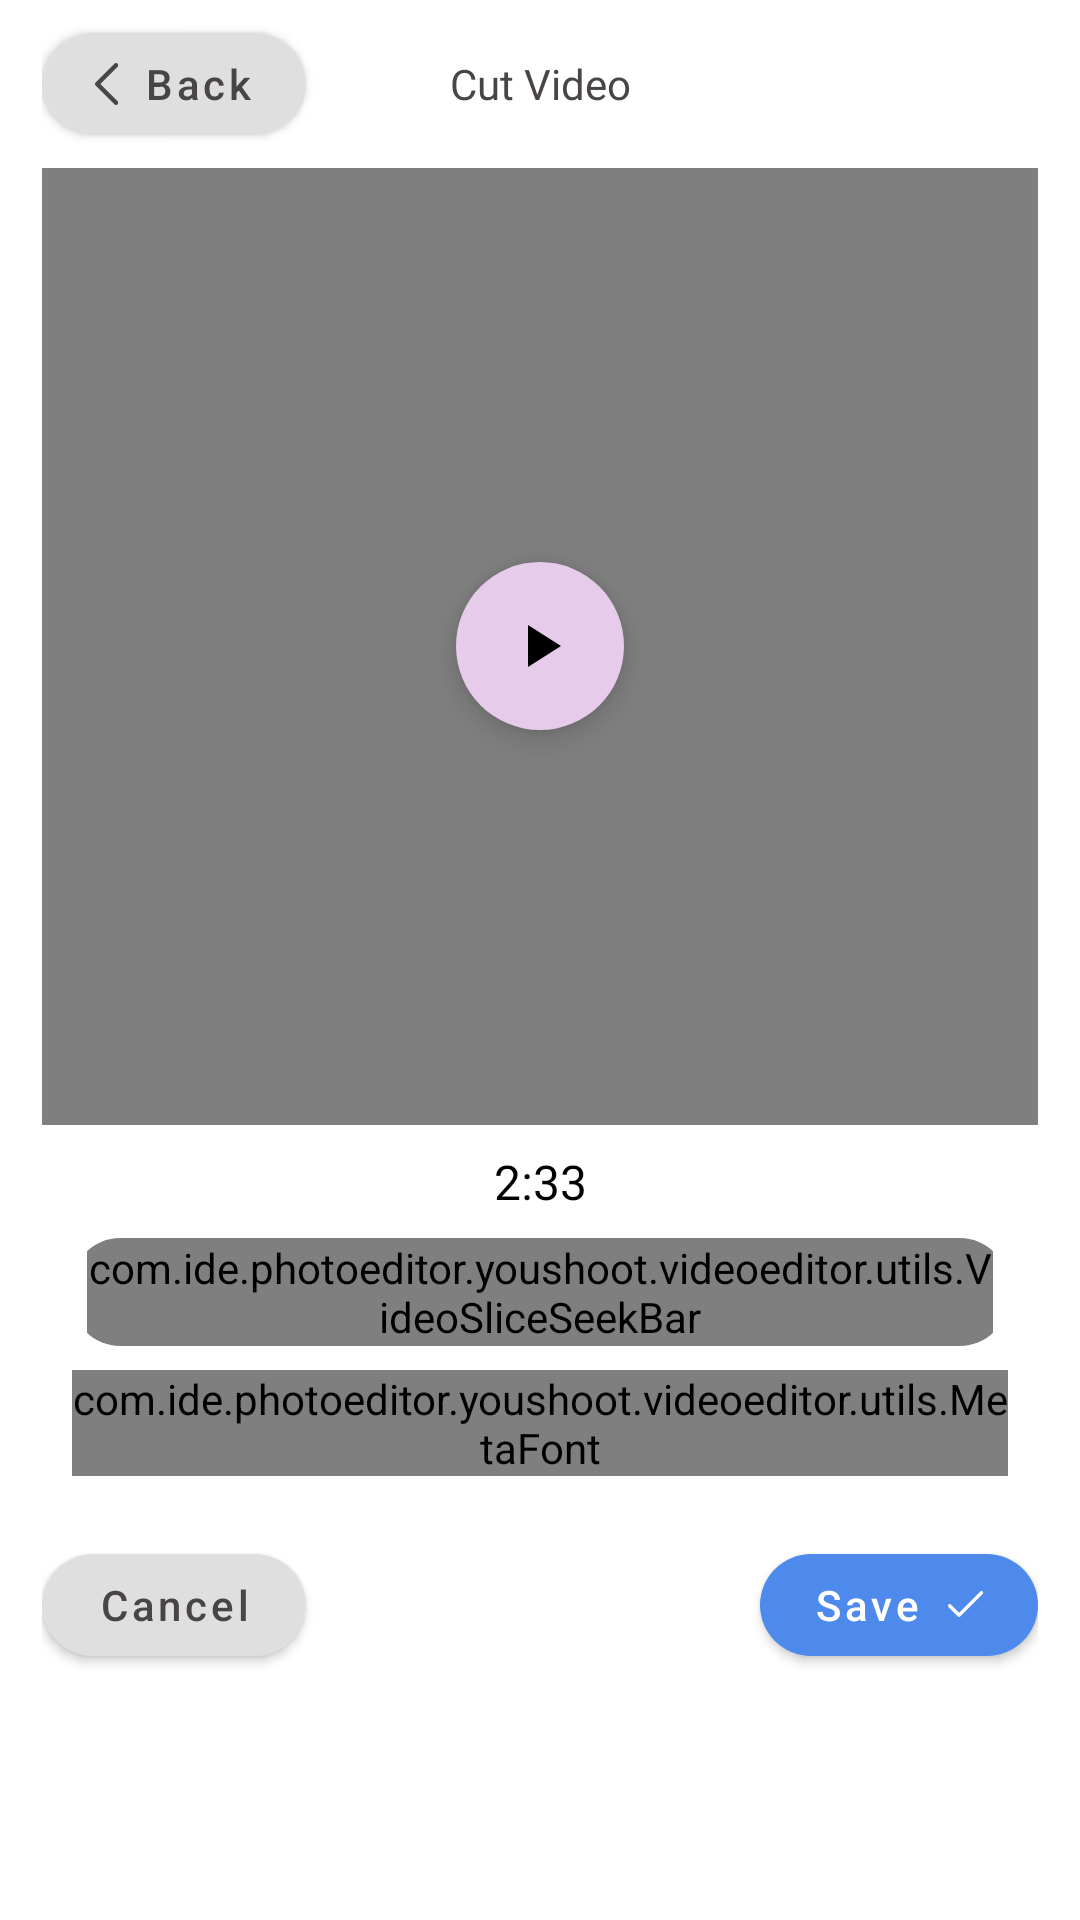

Where to tap for icons on this 1080x1920 app screen, as (x=x, y=y):
play arrow: (x=540, y=646)
